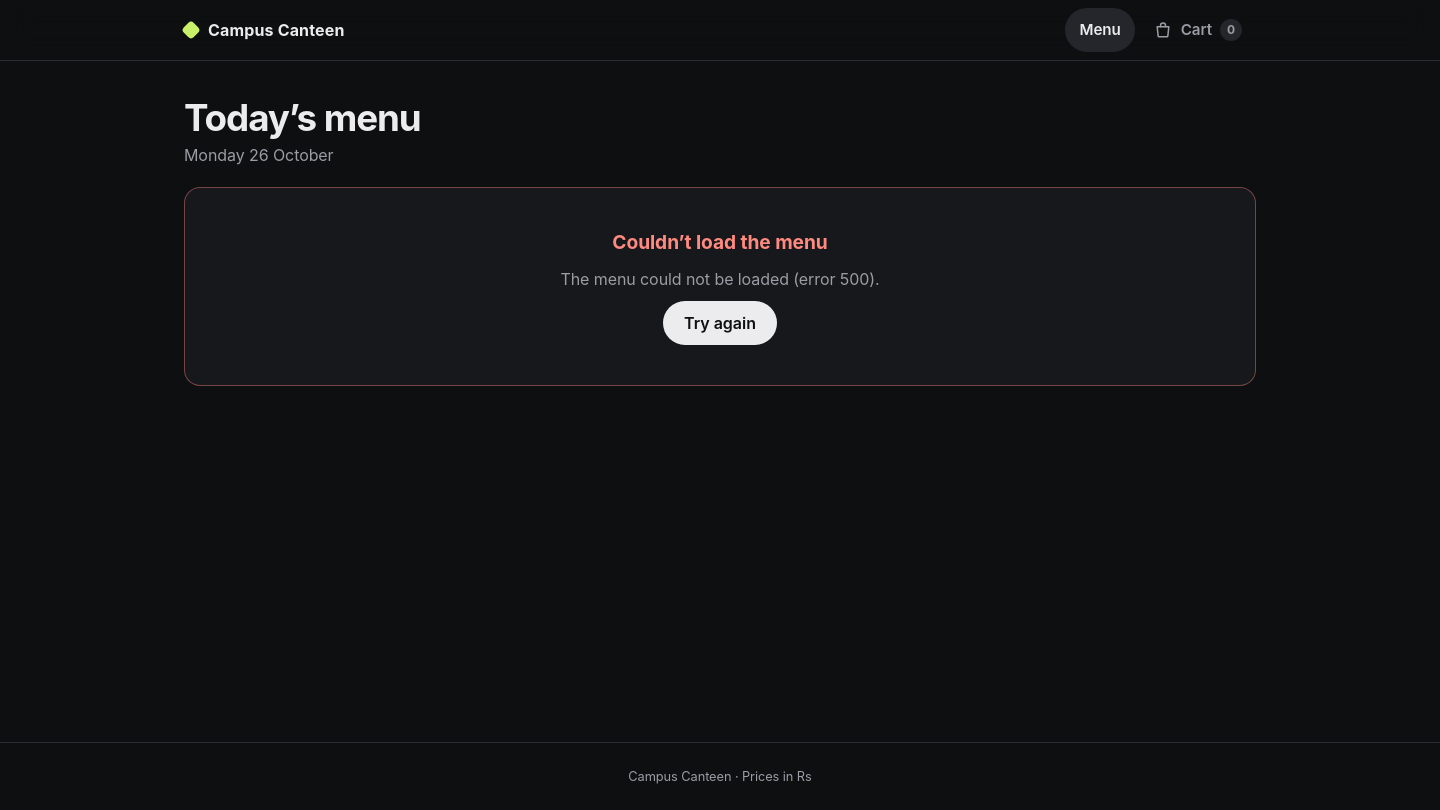
Test: menu loading › shows an error message and recovers when retrying
Expected: the message shows "error 500", [560, 269, 880, 289]
What coordinates should you click on to do the following:
click the button "Try again"
I would click on:
 (720, 323)
Its box is [663, 301, 777, 345].
(page scrolled)
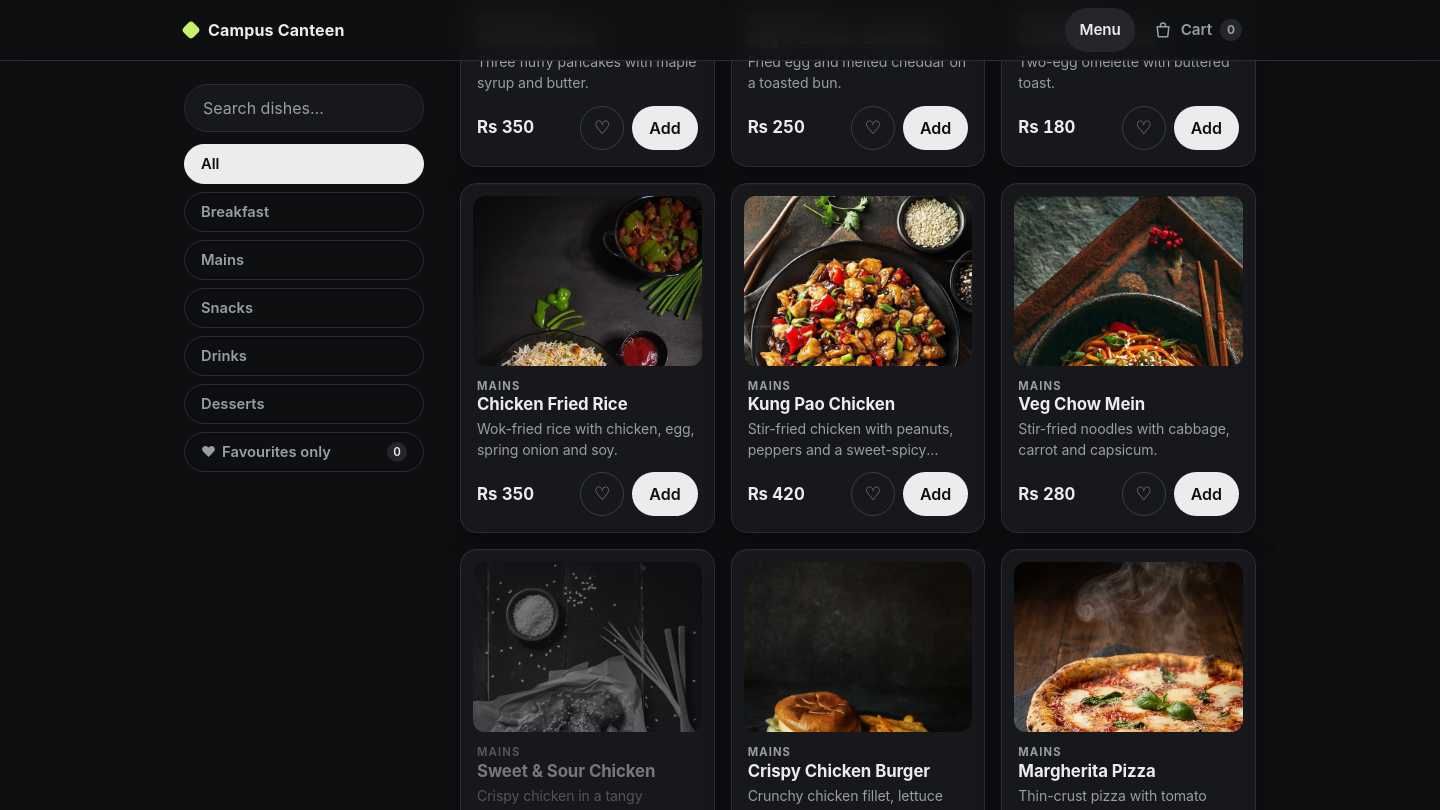
Result: the heading "Chicken Fried Rice" is shown at [477, 394, 628, 414]
